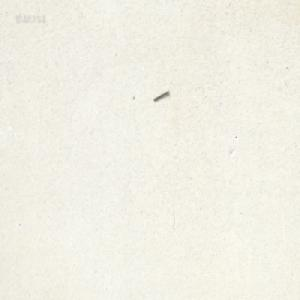Bolt: (152, 88, 168, 100)
